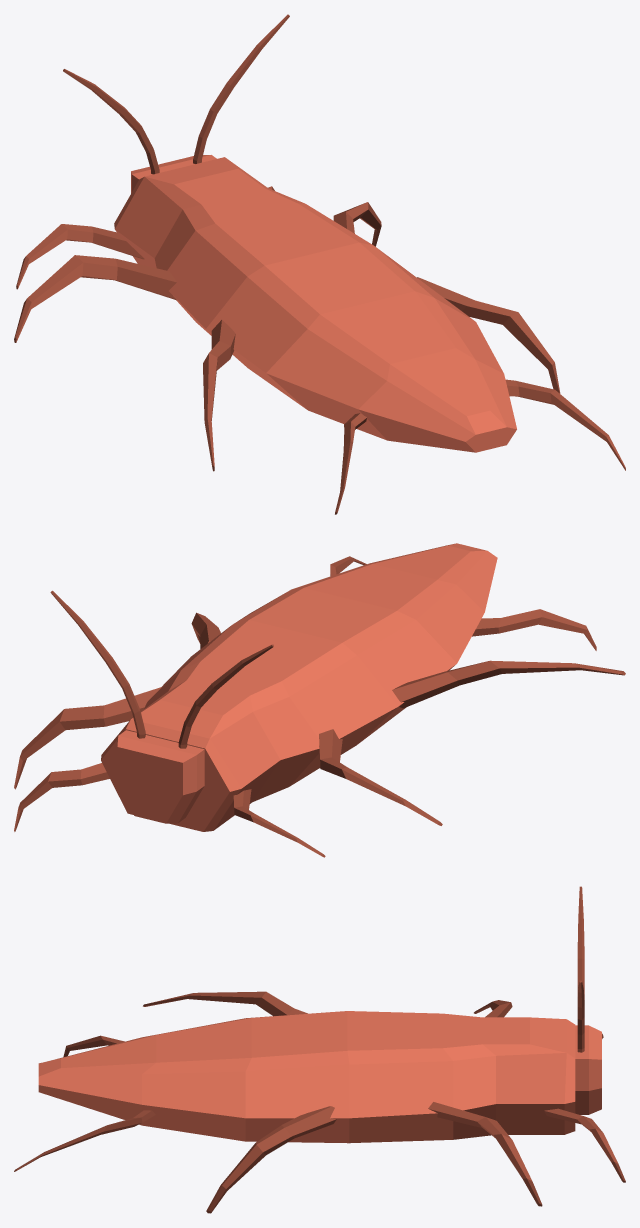
File: Cockroach.fbx
The picture shows the model from 3 angles, top to bottom: view 1: azimuth 30°, elevation 25°; view 2: azimuth 150°, elevation 25°; view 3: azimuth 270°, elevation 25°; orthographic projection. The views are drawn at different scales.
Visible parts, largest first — view 1: Body, Leg 2.001, Mustache, Leg 3, Leg 1.001, Leg 3.001, Leg 4, Leg 2, Leg 4.001; view 2: Body, Leg 3.001, Leg 2, Mustache, Leg 2.001, Leg 4.001, Leg 1, Leg 1.001, Leg 3; view 3: Body, Leg 3, Leg 2, Leg 3.001, Mustache, Leg 1, Leg 4, Leg 4.001.
Boxes of the visible parts, left/top/right/bottom form: Body: left=114, top=155, right=516, bottom=452; Leg 2.001: left=14, top=255, right=176, bottom=342; Mustache: left=63, top=14, right=289, bottom=174; Leg 3: left=417, top=277, right=560, bottom=393; Leg 1.001: left=16, top=224, right=144, bottom=289; Leg 3.001: left=203, top=320, right=235, bottom=471; Leg 4: left=505, top=379, right=625, bottom=470; Leg 2: left=333, top=202, right=381, bottom=246; Leg 4.001: left=335, top=413, right=367, bottom=514; Body: left=101, top=543, right=497, bottom=831; Leg 3.001: left=392, top=660, right=625, bottom=708; Leg 2: left=14, top=687, right=161, bottom=789; Mustache: left=50, top=590, right=273, bottom=748; Leg 2.001: left=319, top=729, right=442, bottom=825; Leg 4.001: left=472, top=609, right=596, bottom=650; Leg 1: left=14, top=763, right=109, bottom=831; Leg 1.001: left=233, top=789, right=325, bottom=857; Leg 3: left=191, top=612, right=220, bottom=648; Body: left=38, top=1011, right=601, bottom=1143; Leg 3: left=206, top=1106, right=336, bottom=1213; Leg 2: left=428, top=1102, right=542, bottom=1206; Leg 3.001: left=143, top=991, right=307, bottom=1016; Mustache: left=577, top=886, right=584, bottom=1052; Leg 1: left=544, top=1108, right=625, bottom=1182; Leg 4: left=14, top=1110, right=155, bottom=1171; Leg 4.001: left=63, top=1035, right=124, bottom=1057.
Bounding box in the file's own units: 189 × 111 × 293.
